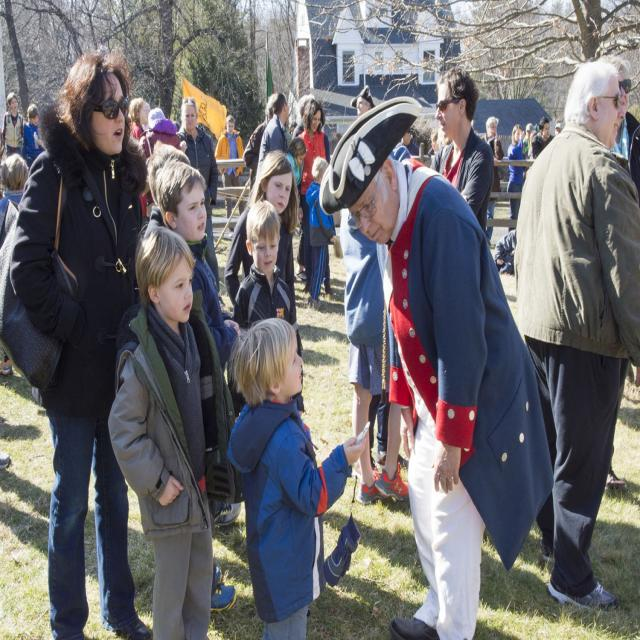body: (316, 91, 556, 640), (5, 47, 150, 639), (507, 51, 639, 618), (108, 223, 244, 640), (227, 315, 368, 639), (155, 159, 242, 615), (336, 112, 412, 506), (596, 53, 640, 493), (232, 198, 306, 420), (222, 148, 300, 332), (427, 65, 496, 236), (348, 73, 453, 178), (177, 96, 226, 310), (296, 98, 332, 292), (290, 120, 344, 231), (368, 382, 422, 476), (305, 156, 337, 311), (144, 142, 192, 243), (214, 113, 246, 235), (242, 95, 278, 195), (255, 90, 291, 184), (480, 115, 504, 248), (138, 106, 187, 163), (0, 151, 30, 235), (506, 123, 526, 234), (526, 109, 565, 157), (21, 102, 47, 170), (1, 91, 25, 159), (140, 100, 182, 138), (286, 136, 308, 188), (292, 93, 316, 139), (530, 116, 554, 160), (128, 98, 148, 142), (0, 446, 14, 488)
